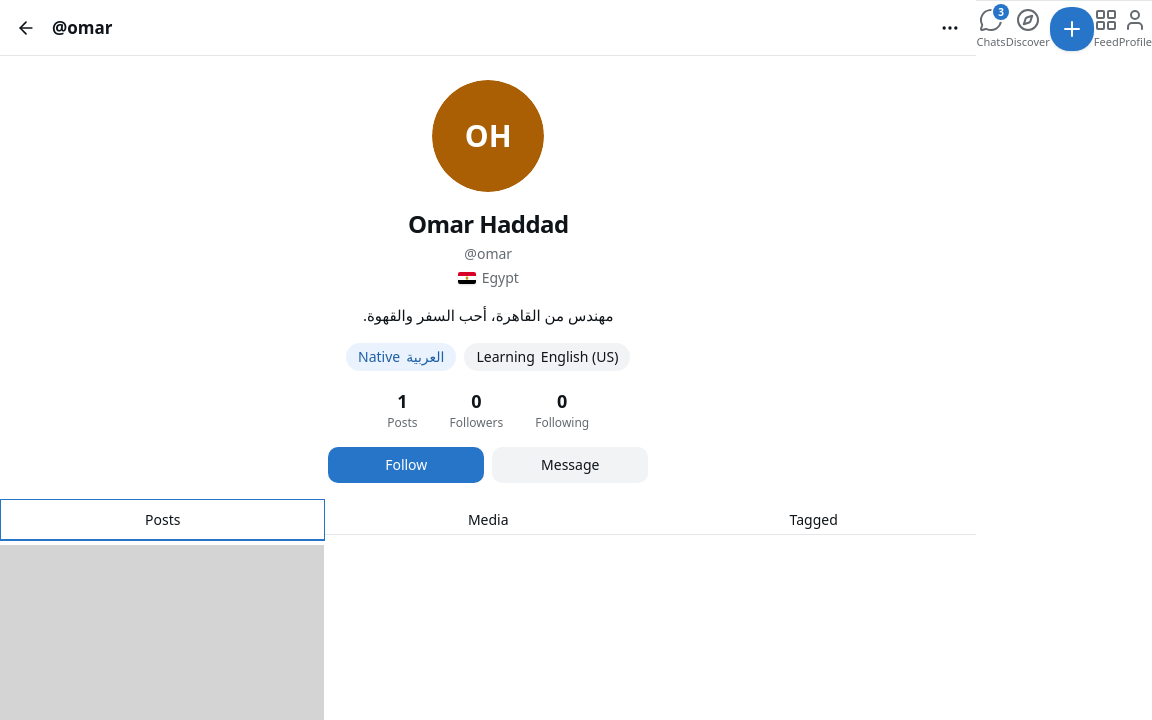
it: profile › blocks someone after confirmation
Click the button named "Profile menu" at (950, 28), box [932, 10, 968, 46]
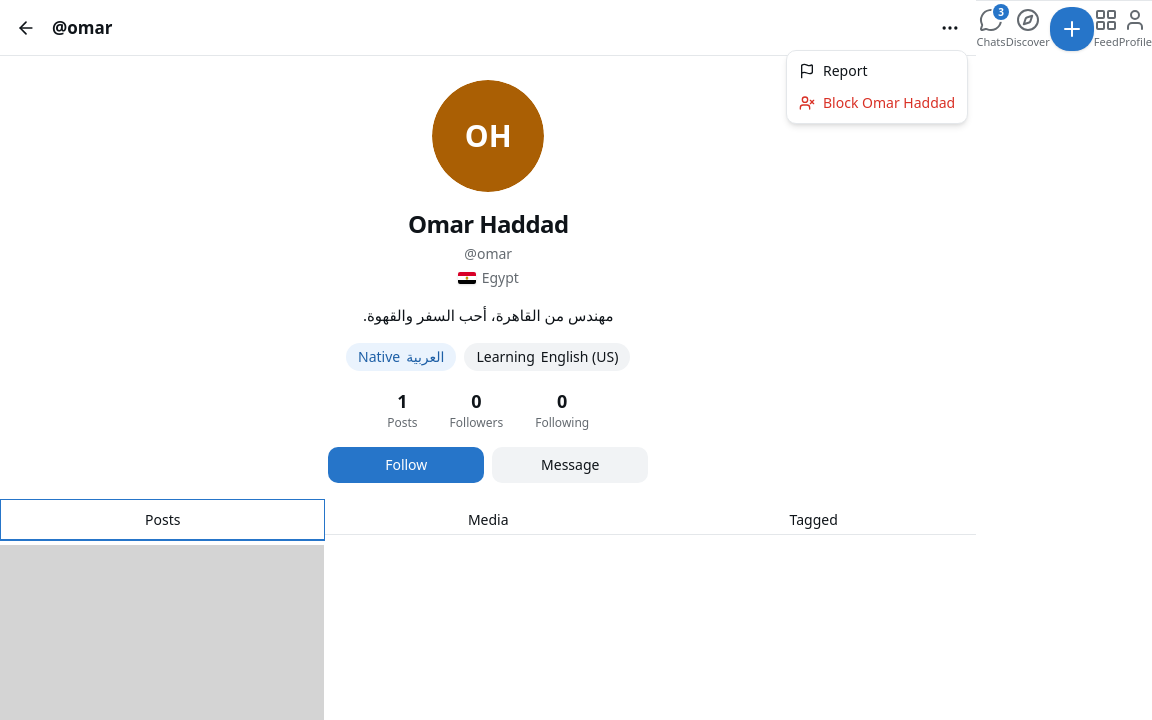
Click the menu item "Block Omar Haddad" at (877, 102), box [799, 93, 955, 112]
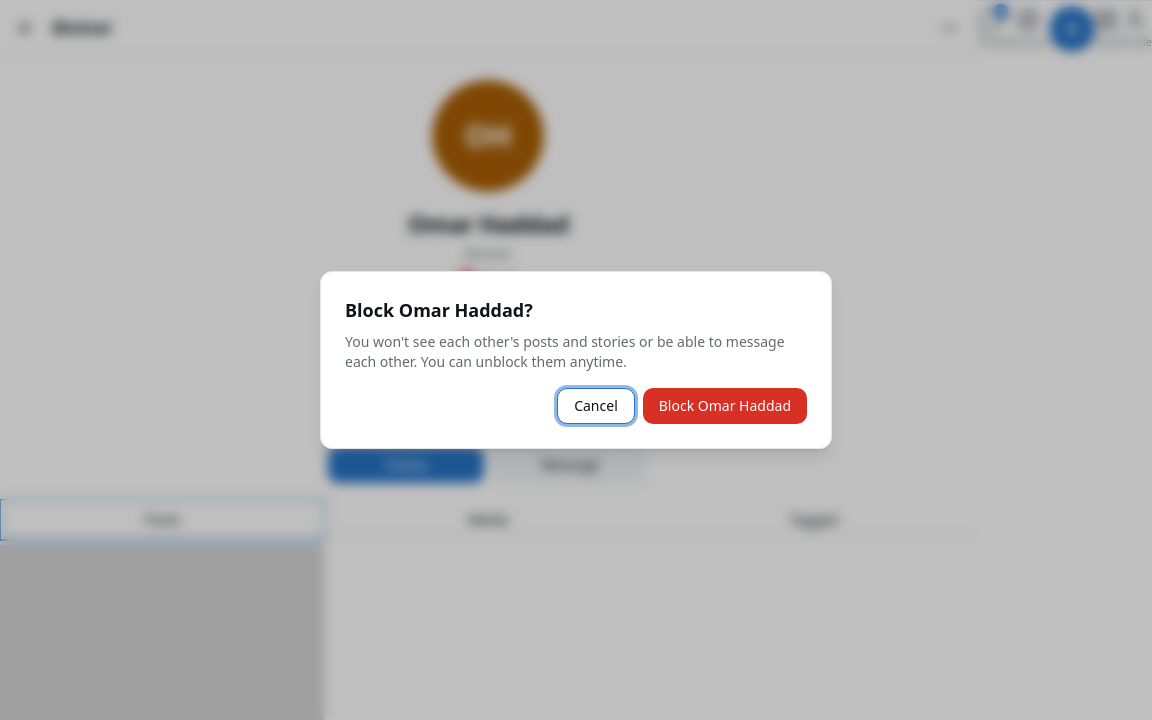
Click the button "Block Omar Haddad" at (725, 406), box [643, 388, 807, 424]
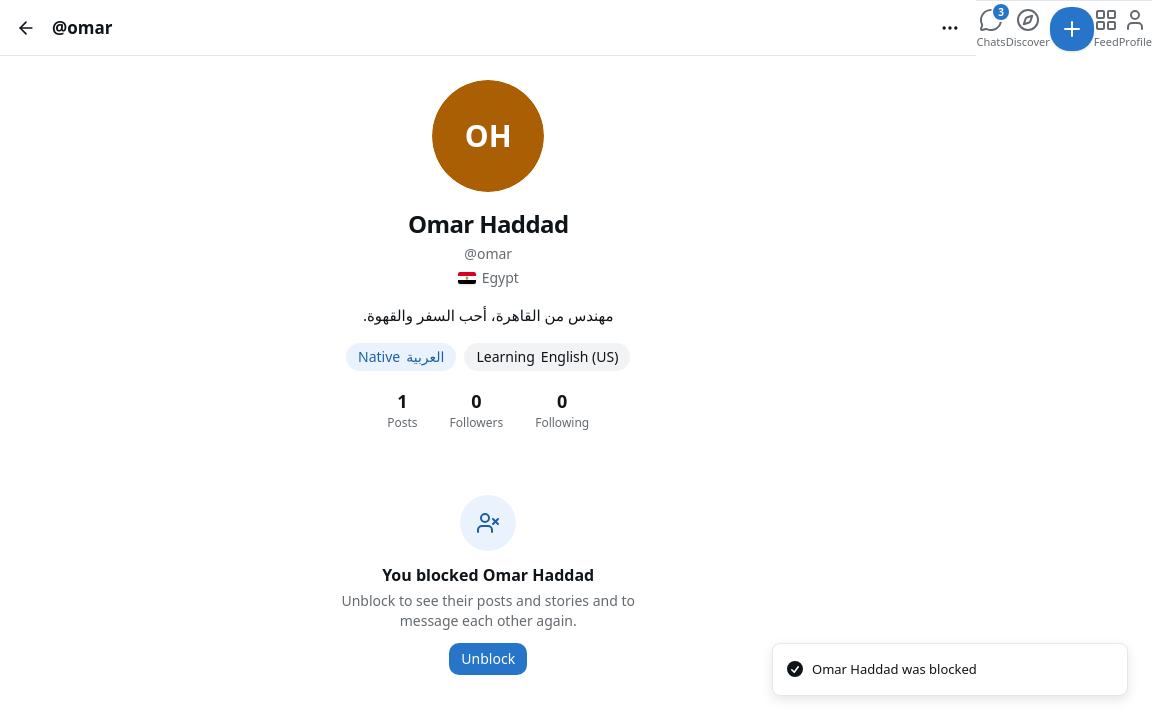
Expected: the text "Omar Haddad was blocked" is shown, [812, 660, 977, 679]
